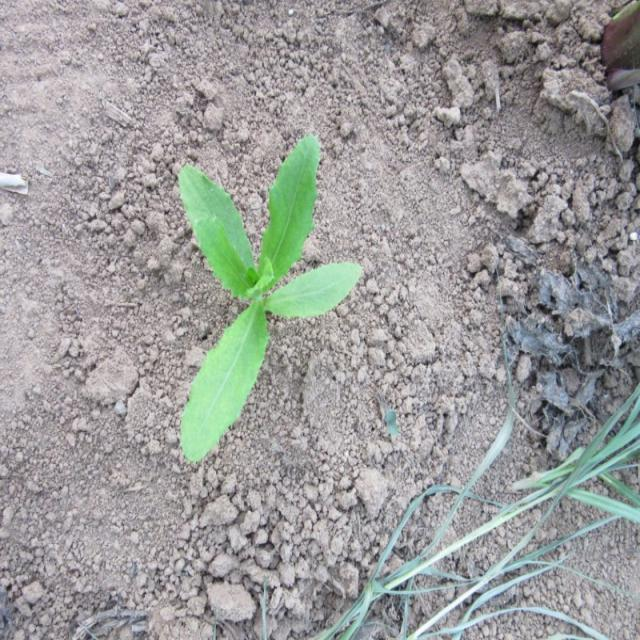cs: (176, 132, 363, 464)
